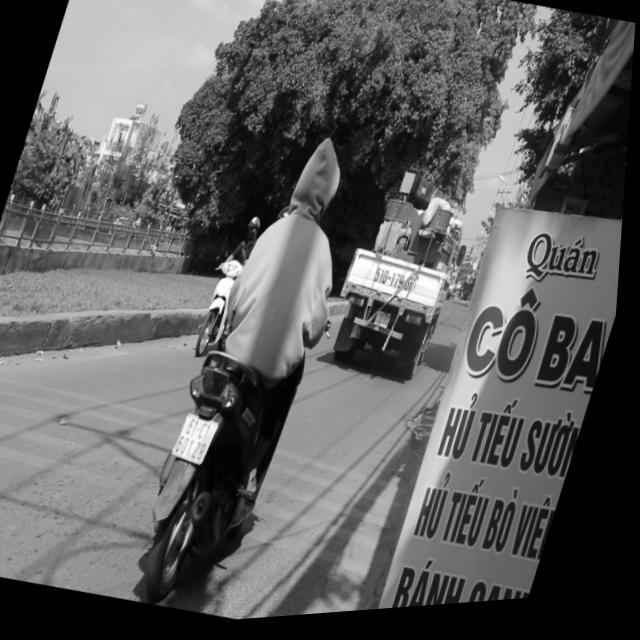helmet: (285, 138, 354, 233)
licenseplate: (124, 124, 387, 629)
nohelmet: (175, 414, 225, 471)
